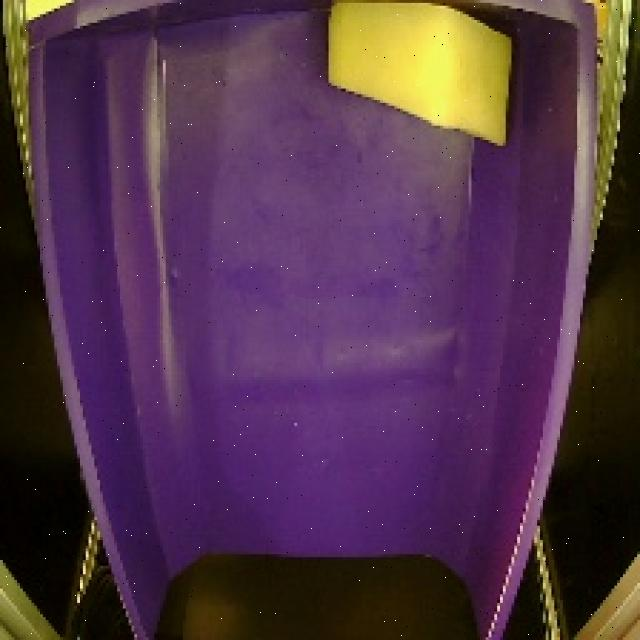potato: (317, 0, 520, 160)
